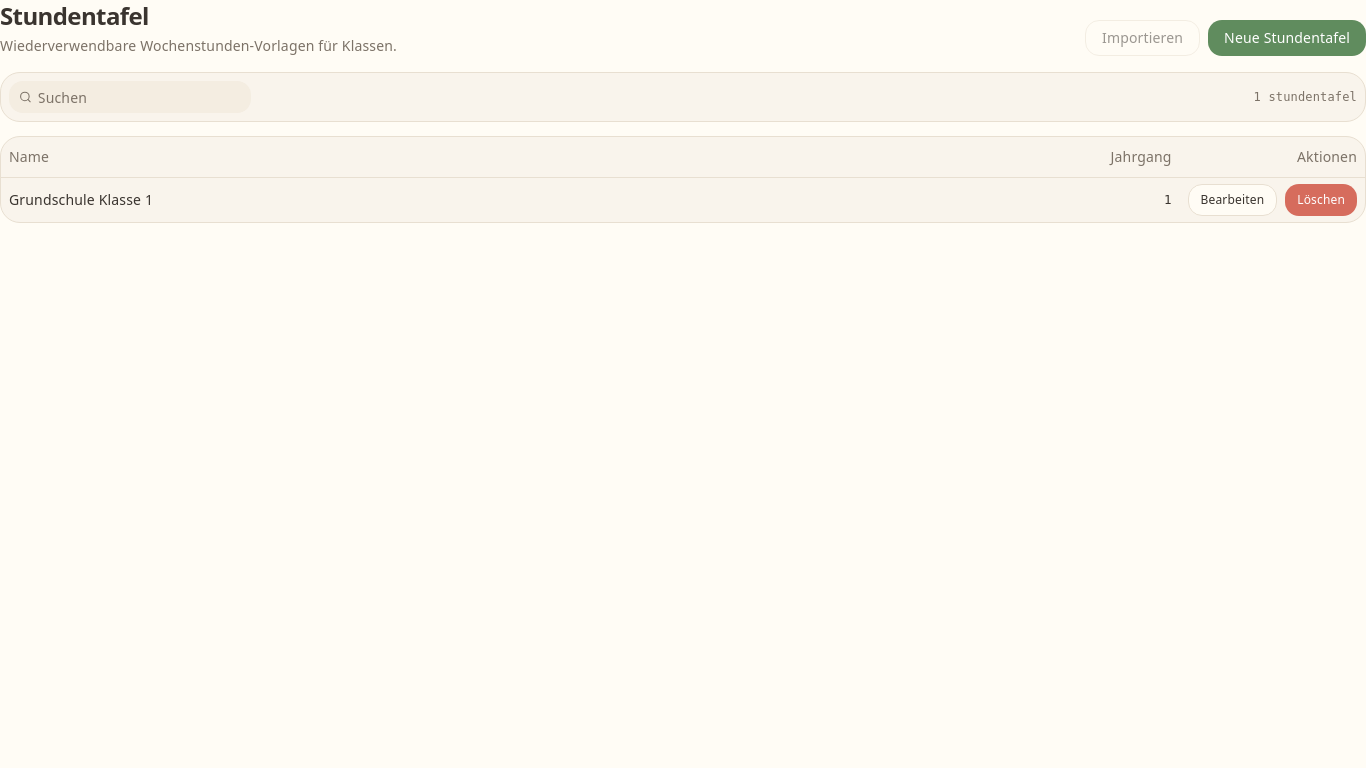
Test: StundentafelnPage › creates a stundentafel via the dialog and closes on success
The width and height of the screenshot is (1366, 768).
Expected: the text "Grundschule Klasse 1" is shown, [1,177,797,222]
Click the button "Neue Stundentafel" at (1287, 38), box [1208,20,1365,56]
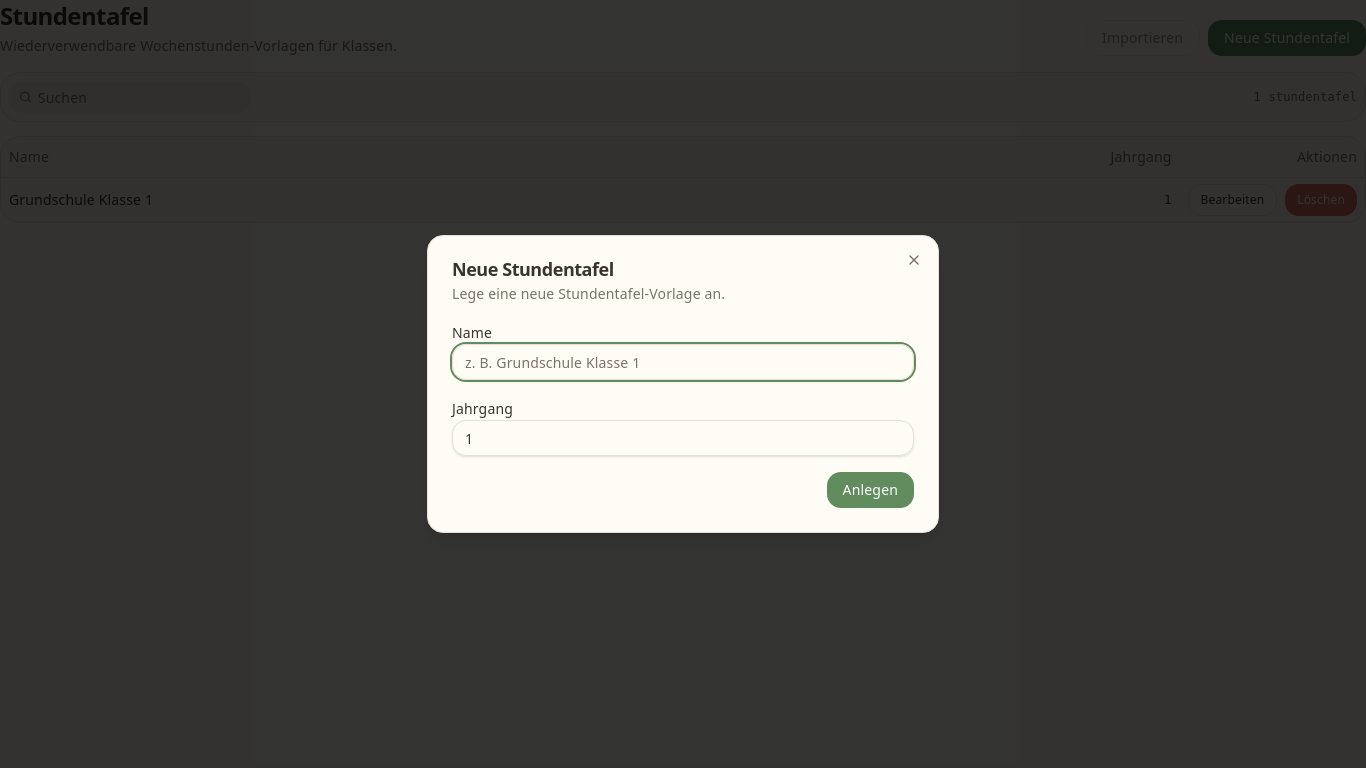
Type "Gymnasium Klasse 5" into the field labelled "Name" at (683, 362), box [452,344,914,380]
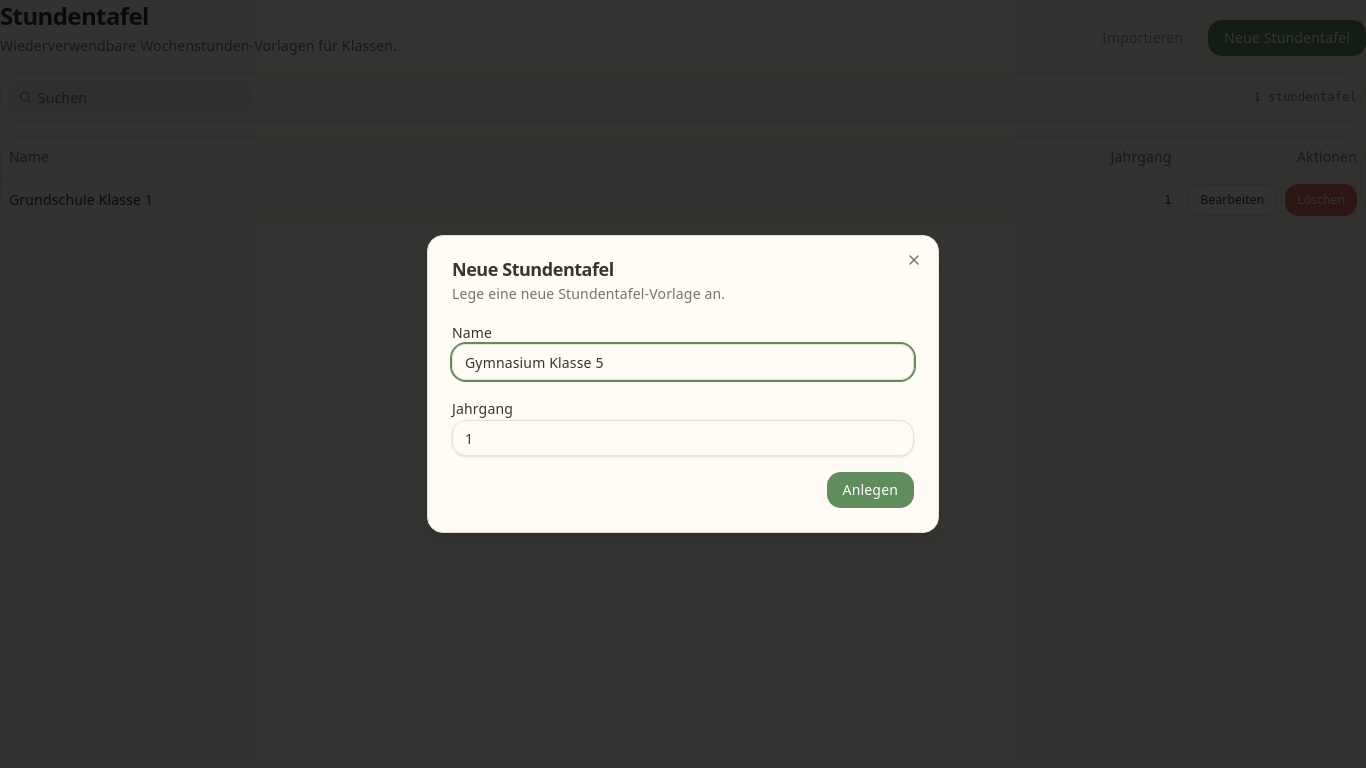
Click the button "Anlegen" at (870, 490), box [827,472,914,508]
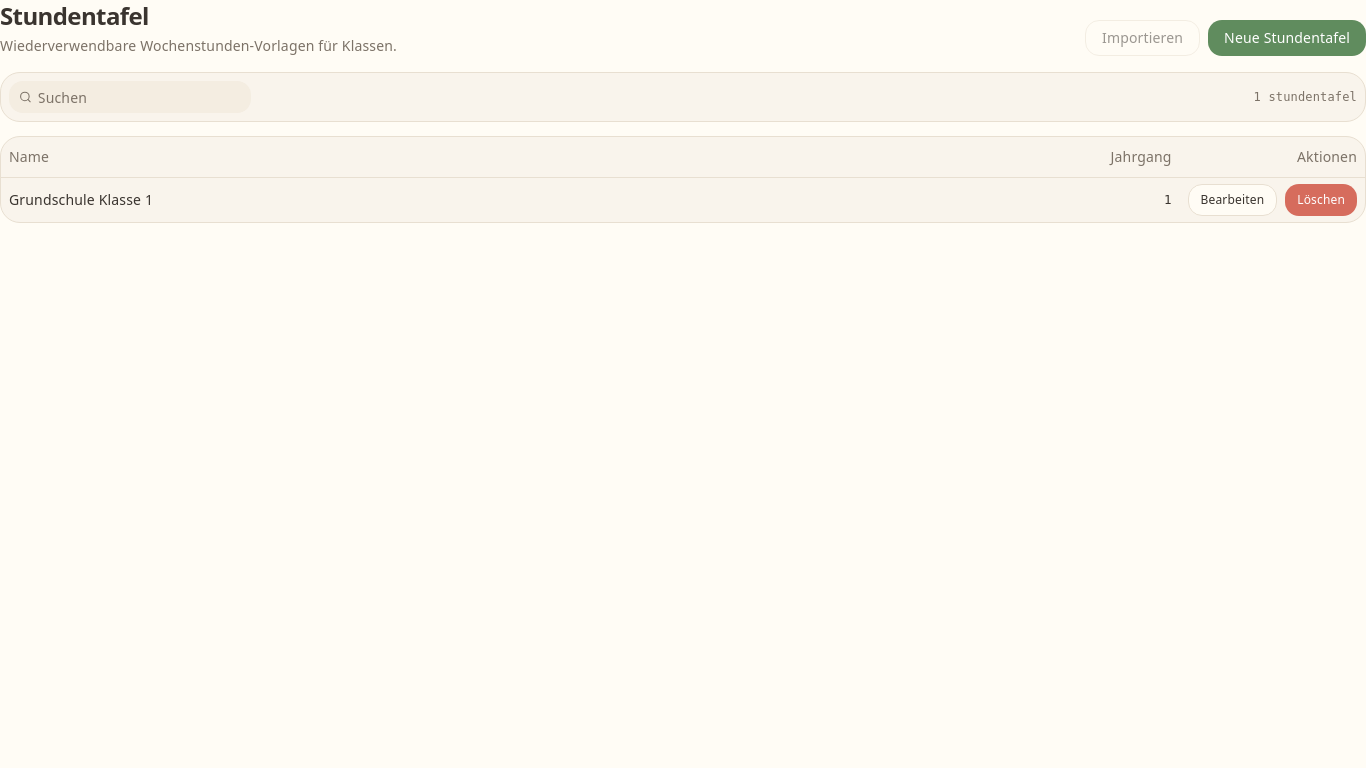
Expected: the dialog is gone
